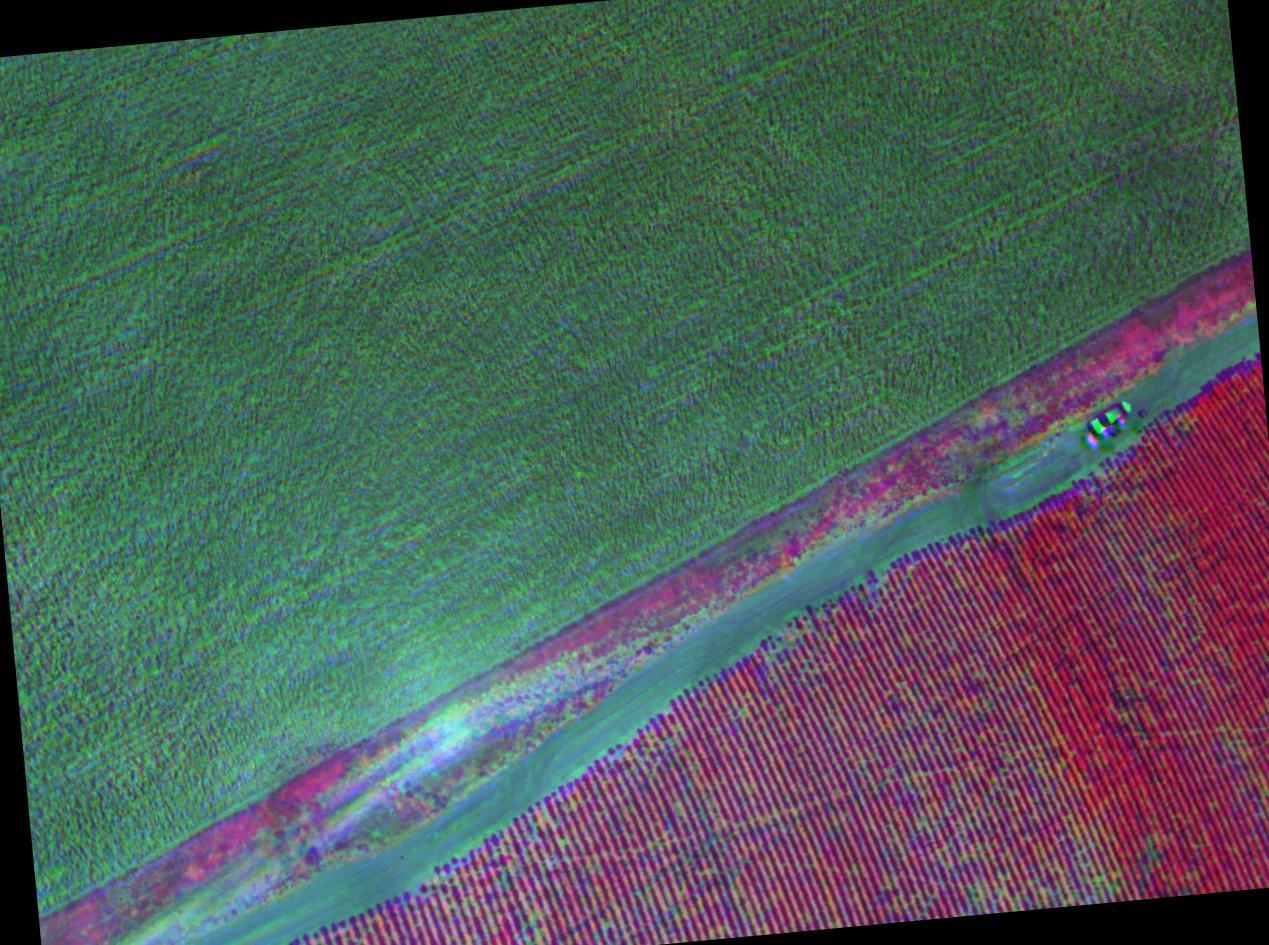dc: (1066, 827, 1131, 901), (940, 864, 1040, 912), (524, 815, 590, 882), (642, 723, 698, 784), (492, 894, 558, 943), (767, 619, 826, 669)
